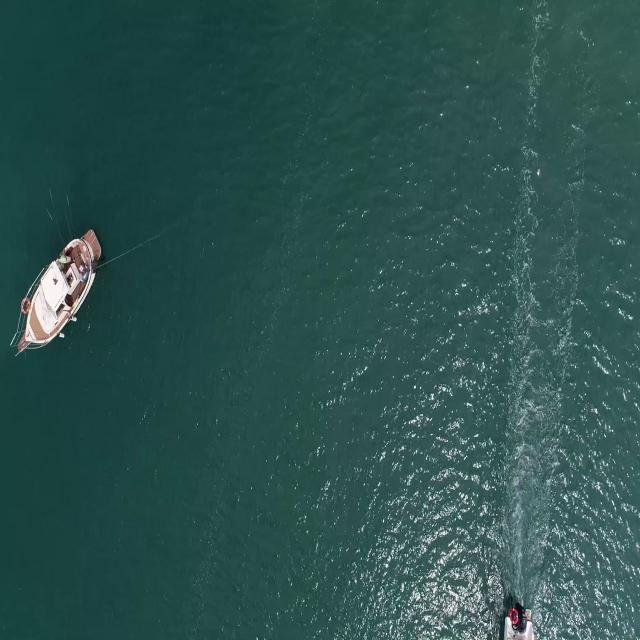boat: (16, 233, 102, 354)
life_buoy: (22, 291, 32, 315), (507, 603, 519, 622)
person: (56, 252, 74, 266), (78, 265, 90, 280)
